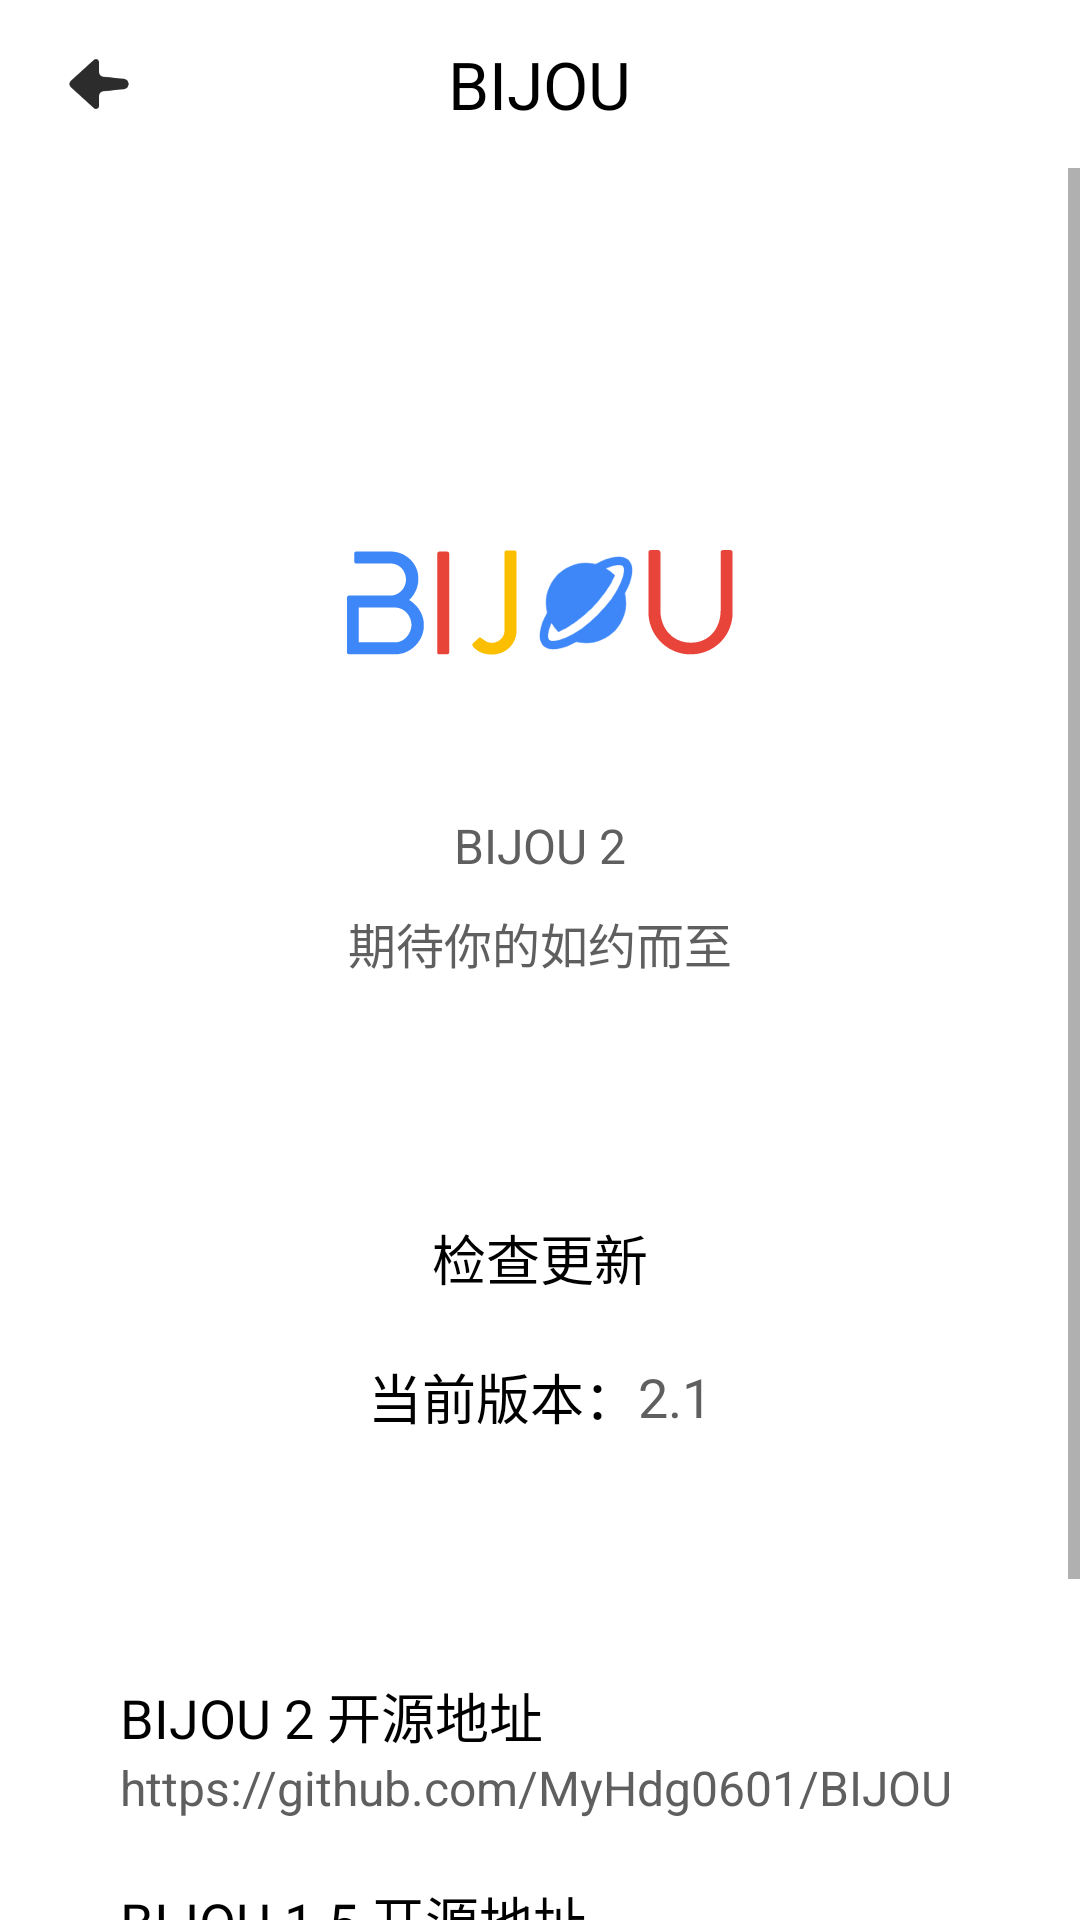

Point at icon controls on the screen. Image size 1080 x 1920, points as point (x, y).
back: point (99, 84)
